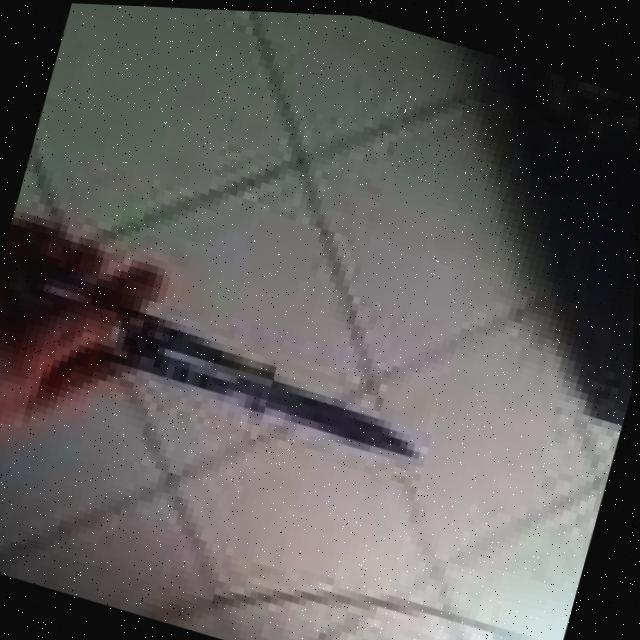knife: (117, 308, 439, 463)
